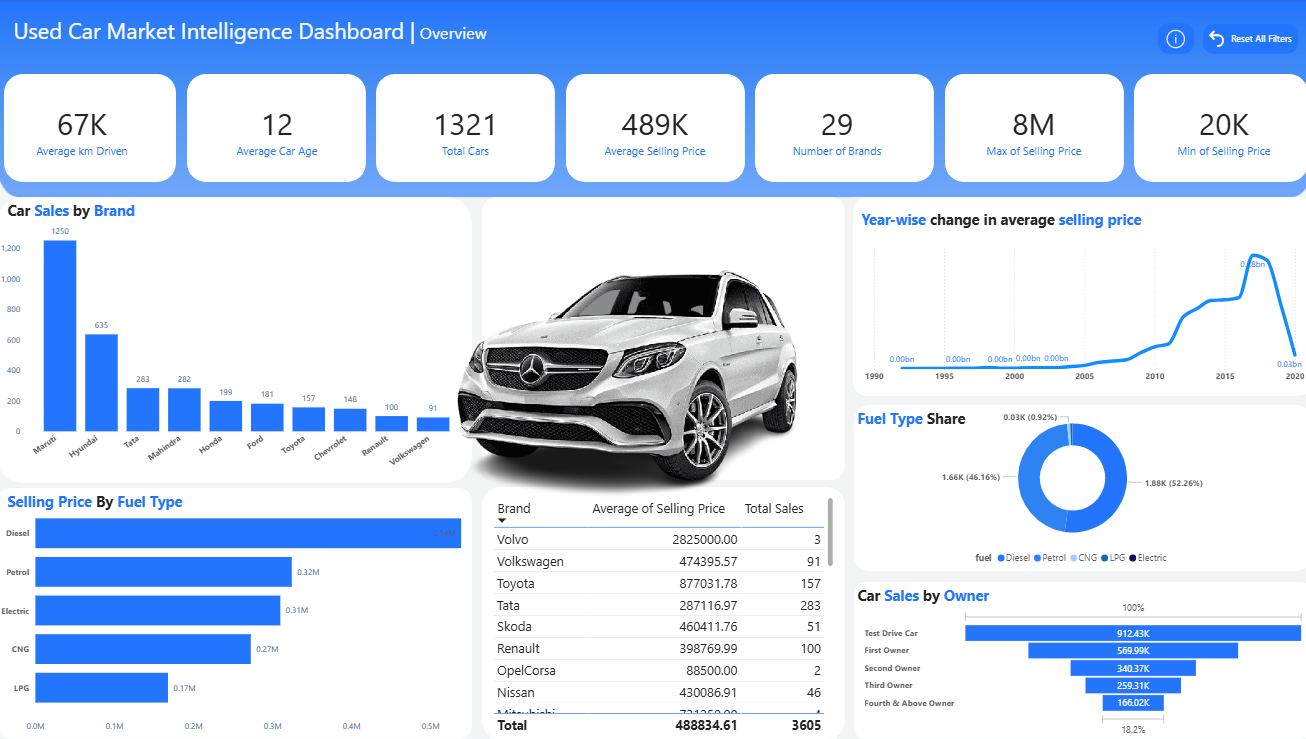

This screenshot's page, from the dashboard's own definition file:
{"tool":"powerbi","page":{"name":"Page 1","canvas":[1920,1080],"ordinal":0},"visuals":[{"type":"group","id":"g1","title":"Group 2","box":[0,0,1920,288.9],"z":0},{"type":"group","id":"g2","title":"Group 1","box":[707.6,288.9,529.6,412.9],"z":1000},{"type":"group","id":"g3","title":"Group 1","box":[0,288.9,693,417.3],"z":2000},{"type":"card","fields":{"Values":["Count(cars_processed.brand)"]},"box":[1129.2,144.4,215.9,93.4],"z":3000},{"type":"shape","box":[1383.1,109.4,261.2,157.6],"z":4000},{"type":"group","id":"g4","title":"Group 1","box":[1248.9,288.9,671.1,290.3],"z":4000,"group":"g8"},{"type":"group","id":"g5","title":"Group 1","box":[1250.3,592.3,668.2,242.2],"z":4000,"group":"g14"},{"type":"group","id":"g6","title":"Group 1","box":[707.6,712,529.6,367.7],"z":5000},{"type":"shape","box":[10.2,109.4,250.9,157.6],"z":6000,"group":"g7"},{"type":"shape","box":[277.2,109.4,261.2,157.6],"z":6000},{"type":"shape","box":[553.7,109.4,261.2,157.6],"z":6000,"group":"g11"},{"type":"shape","box":[830.2,109.4,261.2,157.6],"z":6000,"group":"g10"},{"type":"shape","box":[1106.6,109.4,261.2,157.6],"z":6000,"group":"g9"},{"type":"shape","box":[0,288.9,693,417.3],"z":6000,"group":"g3"},{"type":"shape","box":[707.6,288.9,529.6,412.9],"z":6000,"group":"g2"},{"type":"shape","box":[1248.9,288.9,671.1,290.3],"z":6000,"group":"g4"},{"type":"shape","box":[1250.3,592.3,668.2,242.2],"z":6000,"group":"g5"},{"type":"shape","box":[707.6,712,529.6,367.7],"z":6000,"group":"g6"},{"type":"shape","box":[0,713.4,693,366.2],"z":6000,"group":"g12"},{"type":"shape","box":[1250.3,850.6,668.2,229.1],"z":6000,"group":"g13"},{"type":"card","fields":{"Values":["Avg(cars_processed.car_age)"]},"box":[299.1,144.4,218.8,93.4],"z":7000},{"type":"group","id":"g7","title":"Group 1","box":[10.2,109.4,250.9,157.6],"z":8000},{"type":"card","fields":{"Values":["Avg(cars_processed.km_driven)"]},"box":[27.7,144.4,192.6,93.4],"z":9000},{"type":"clusteredColumnChart","title":"Top 10 Countries by Number of Accidents","fields":{"Category":["cars_processed.brand"],"Y":["CountNonNull(cars_processed.brand)"]},"box":[0,313.7,690.1,388.1],"z":10000},{"type":"textbox","box":[10.2,288.9,617.1,51.1],"z":11000},{"type":"group","id":"g8","title":"Group 3","box":[1248.9,288.9,671.1,290.3],"z":12000},{"type":"lineChart","title":"Terrorist Activities Each Year","fields":{"Category":["cars_processed.year"],"Y":["Sum(cars_processed.selling_price)"]},"box":[1260.5,348.7,652.2,220.3],"z":13000},{"type":"group","id":"g9","title":"Group 1","box":[1106.6,109.4,261.2,157.6],"z":14000},{"type":"group","id":"g10","title":"Group 1","box":[830.2,109.4,261.2,157.6],"z":15000},{"type":"textbox","box":[1256.4,302.2,601.1,42.3],"z":15000,"group":"g8"},{"type":"image","box":[0,0,1920,288.9],"z":15005,"group":"g1"},{"type":"textbox","box":[10.2,19,841.8,156.1],"z":15505,"group":"g1"},{"type":"group","id":"g11","title":"Group 1","box":[553.7,109.4,261.2,157.6],"z":16000},{"type":"shape","box":[1658.8,109.4,253.9,157.6],"z":17000},{"type":"card","fields":{"Values":["Count(cars_processed.name)"]},"box":[574.8,144.4,217.4,93.4],"z":18000},{"type":"card","fields":{"Values":["Avg(cars_processed.selling_price)"]},"box":[852,144.4,215.9,93.4],"z":19000},{"type":"card","fields":{"Values":["Count(cars_processed.brand)"]},"box":[1117.6,144.4,215.9,93.4],"z":20000},{"type":"card","fields":{"Values":["Max(cars_processed.selling_price)"]},"box":[1405,144.4,215.9,93.4],"z":21000},{"type":"card","fields":{"Values":["Min(cars_processed.selling_price)"]},"box":[1682.2,144.4,215.9,93.4],"z":22000},{"type":"group","id":"g12","title":"Group 1","box":[0,713.4,693,366.2],"z":23000},{"type":"clusteredBarChart","title":"Top 10 Countries by Number of Accidents","fields":{"Category":["cars_processed.fuel"],"Y":["Avg(cars_processed.selling_price)"]},"box":[0,722.2,735.3,357.4],"z":24000},{"type":"textbox","box":[10.2,713.4,294.7,56.9],"z":25000},{"type":"tableEx","fields":{"Values":["cars_processed.brand","Avg(cars_processed.selling_price)","CountNonNull(cars_processed.brand)"]},"box":[719.3,722.2,506.3,357.4],"z":26000},{"type":"group","id":"g13","title":"Group 1","box":[1250.3,850.6,668.2,229.1],"z":27000},{"type":"shape","box":[1759.5,36.5,138.6,43.8],"z":28000},{"type":"actionButton","box":[1759.5,37.9,132.8,39.4],"z":29000},{"type":"shape","box":[1693.9,35,52.5,45.2],"z":30000},{"type":"actionButton","box":[1696.8,39.4,46.7,37.9],"z":31000},{"type":"funnel","fields":{"Category":["cars_processed.owner"],"Y":["Avg(cars_processed.selling_price)"]},"box":[1260.5,872.5,652.2,207.2],"z":32000},{"type":"textbox","box":[1250.3,850.6,617.1,51.1],"z":33000},{"type":"image","box":[588,348.7,662.4,440.6],"z":34000},{"type":"group","id":"g14","title":"Group 3","box":[1250.3,592.3,668.2,242.2],"z":37000},{"type":"donutChart","title":"Criteria","fields":{"Category":["cars_processed.fuel"],"Y":["CountNonNull(cars_processed.fuel)"]},"box":[1283.9,592.3,570.5,242.2],"z":37500},{"type":"textbox","box":[1250.3,592.3,617.1,51.1],"z":38000}]}

Visuals, with their boxes in screenshot pixels (x1, y1, x2, y2), scaled from the page's 1920x1080 canvas onto the 1306x739 screenshot:
"Group 2" group: left=0, top=0, right=1305, bottom=198
"Group 1" group: left=481, top=198, right=842, bottom=480
"Group 1" group: left=0, top=198, right=471, bottom=483
card - Count(cars_processed.brand): left=768, top=99, right=915, bottom=163
shape: left=941, top=75, right=1118, bottom=183
"Group 1" group: left=850, top=198, right=1305, bottom=396
"Group 1" group: left=850, top=405, right=1305, bottom=571
"Group 1" group: left=481, top=487, right=842, bottom=738
shape: left=7, top=75, right=178, bottom=183
shape: left=189, top=75, right=366, bottom=183
shape: left=377, top=75, right=554, bottom=183
shape: left=565, top=75, right=742, bottom=183
shape: left=753, top=75, right=930, bottom=183
shape: left=0, top=198, right=471, bottom=483
shape: left=481, top=198, right=842, bottom=480
shape: left=850, top=198, right=1305, bottom=396
shape: left=850, top=405, right=1305, bottom=571
shape: left=481, top=487, right=842, bottom=738
shape: left=0, top=488, right=471, bottom=738
shape: left=850, top=582, right=1305, bottom=738
card - Avg(cars_processed.car_age): left=203, top=99, right=352, bottom=163
"Group 1" group: left=7, top=75, right=178, bottom=183
card - Avg(cars_processed.km_driven): left=19, top=99, right=150, bottom=163
"Top 10 Countries by Number of Accidents" clusteredColumnChart: left=0, top=215, right=469, bottom=480
textbox: left=7, top=198, right=427, bottom=233
"Group 3" group: left=850, top=198, right=1305, bottom=396
"Terrorist Activities Each Year" lineChart: left=857, top=239, right=1301, bottom=389
"Group 1" group: left=753, top=75, right=930, bottom=183
"Group 1" group: left=565, top=75, right=742, bottom=183
textbox: left=855, top=207, right=1263, bottom=236
image: left=0, top=0, right=1305, bottom=198
textbox: left=7, top=13, right=580, bottom=120
"Group 1" group: left=377, top=75, right=554, bottom=183
shape: left=1128, top=75, right=1301, bottom=183
card - Count(cars_processed.name): left=391, top=99, right=539, bottom=163
card - Avg(cars_processed.selling_price): left=580, top=99, right=726, bottom=163
card - Count(cars_processed.brand): left=760, top=99, right=907, bottom=163
card - Max(cars_processed.selling_price): left=956, top=99, right=1103, bottom=163
card - Min(cars_processed.selling_price): left=1144, top=99, right=1291, bottom=163
"Group 1" group: left=0, top=488, right=471, bottom=738
"Top 10 Countries by Number of Accidents" clusteredBarChart: left=0, top=494, right=500, bottom=738
textbox: left=7, top=488, right=207, bottom=527
tableEx - cars_processed.brand x Avg(cars_processed.selling_price): left=489, top=494, right=834, bottom=738
"Group 1" group: left=850, top=582, right=1305, bottom=738
shape: left=1197, top=25, right=1291, bottom=55
actionButton: left=1197, top=26, right=1287, bottom=53
shape: left=1152, top=24, right=1188, bottom=55
actionButton: left=1154, top=27, right=1186, bottom=53
funnel - cars_processed.owner x Avg(cars_processed.selling_price): left=857, top=597, right=1301, bottom=738
textbox: left=850, top=582, right=1270, bottom=617
image: left=400, top=239, right=851, bottom=540
"Group 3" group: left=850, top=405, right=1305, bottom=571
"Criteria" donutChart: left=873, top=405, right=1261, bottom=571
textbox: left=850, top=405, right=1270, bottom=440
